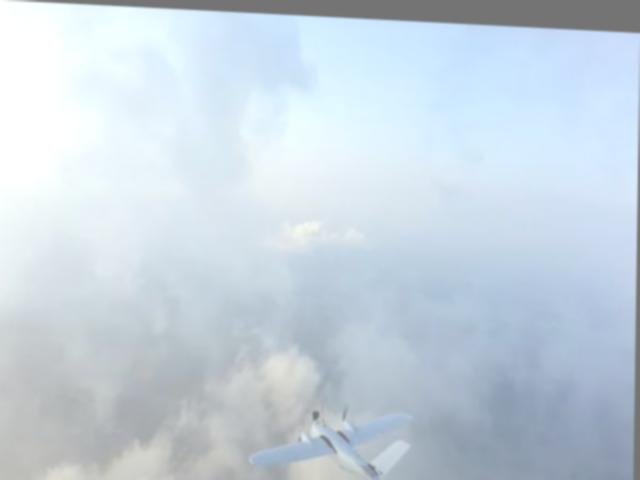iha: (245, 396, 428, 480)
